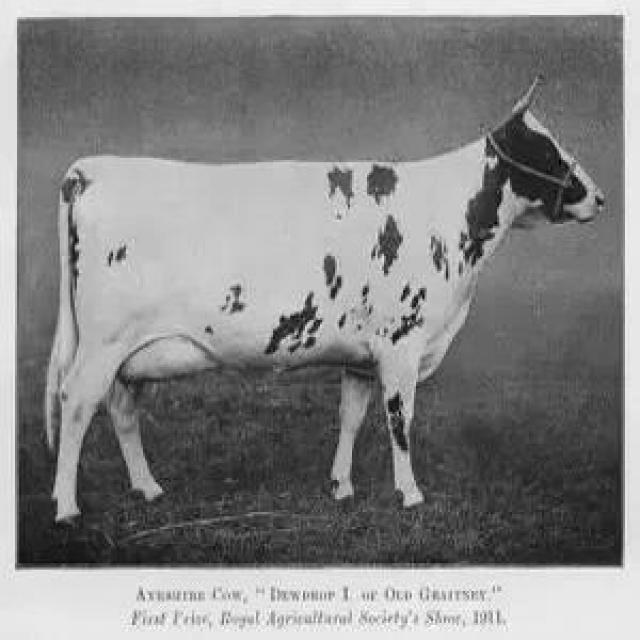cow: (46, 81, 604, 521)
